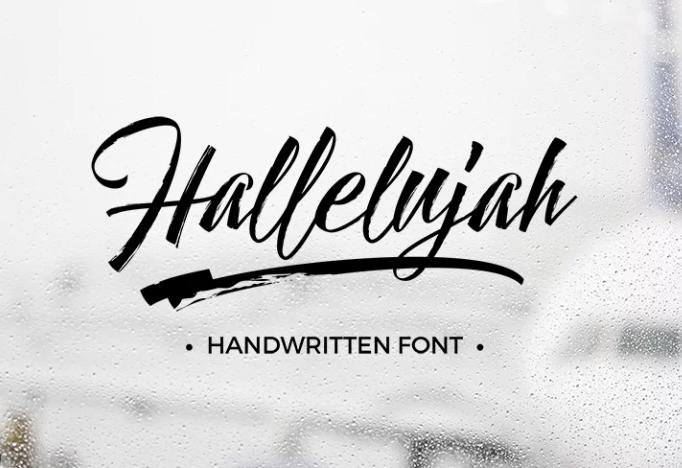text: (87, 110, 580, 284), (204, 334, 465, 356)
